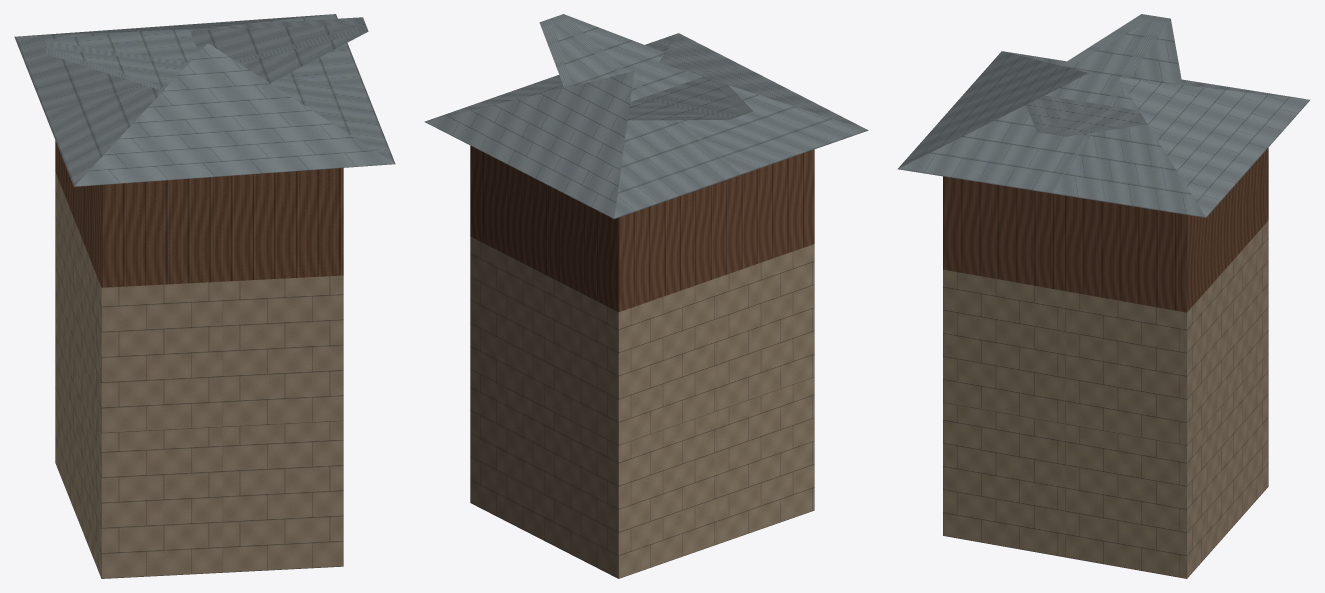
The model's file is bld_c23_-47_532.gltf.
The picture shows the model from 3 angles, left to right: view 1: azimuth 30°, elevation 25°; view 2: azimuth 150°, elevation 25°; view 3: azimuth 270°, elevation 25°; orthographic projection. The views are drawn at different scales.
Visible parts, largest first — view 1: bld_c23_-47_532; view 2: bld_c23_-47_532; view 3: bld_c23_-47_532.
Boxes of the visible parts, <box> form: bld_c23_-47_532: <box>14,14,395,578</box>; bld_c23_-47_532: <box>424,14,868,578</box>; bld_c23_-47_532: <box>897,14,1309,578</box>.
Bounding box in the file's own units: 6.05 × 7.4 × 6.33.
3 materials, 3 textured.
